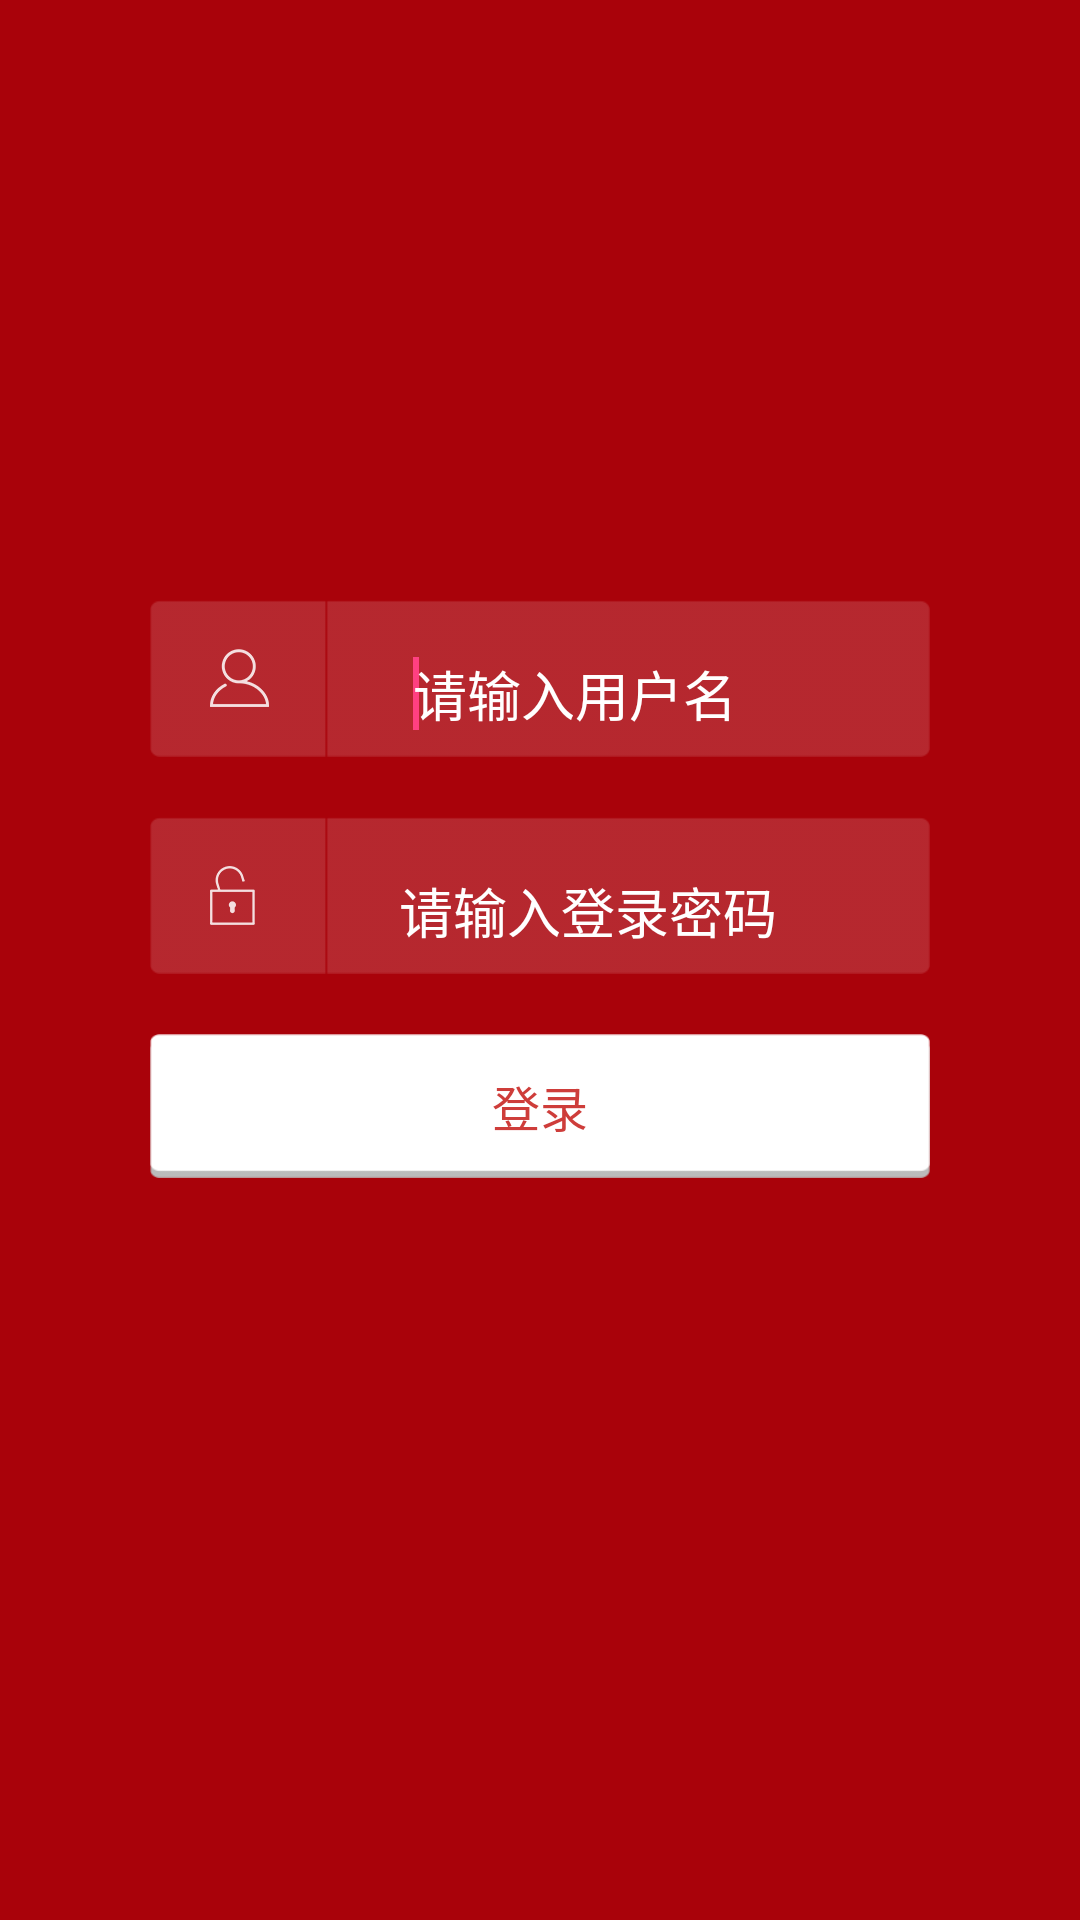

Named icons in this screenshot (1080px×1920px) and their centers, [x,y]:
login mima: [232,895]
login yonghuming: [239,678]
